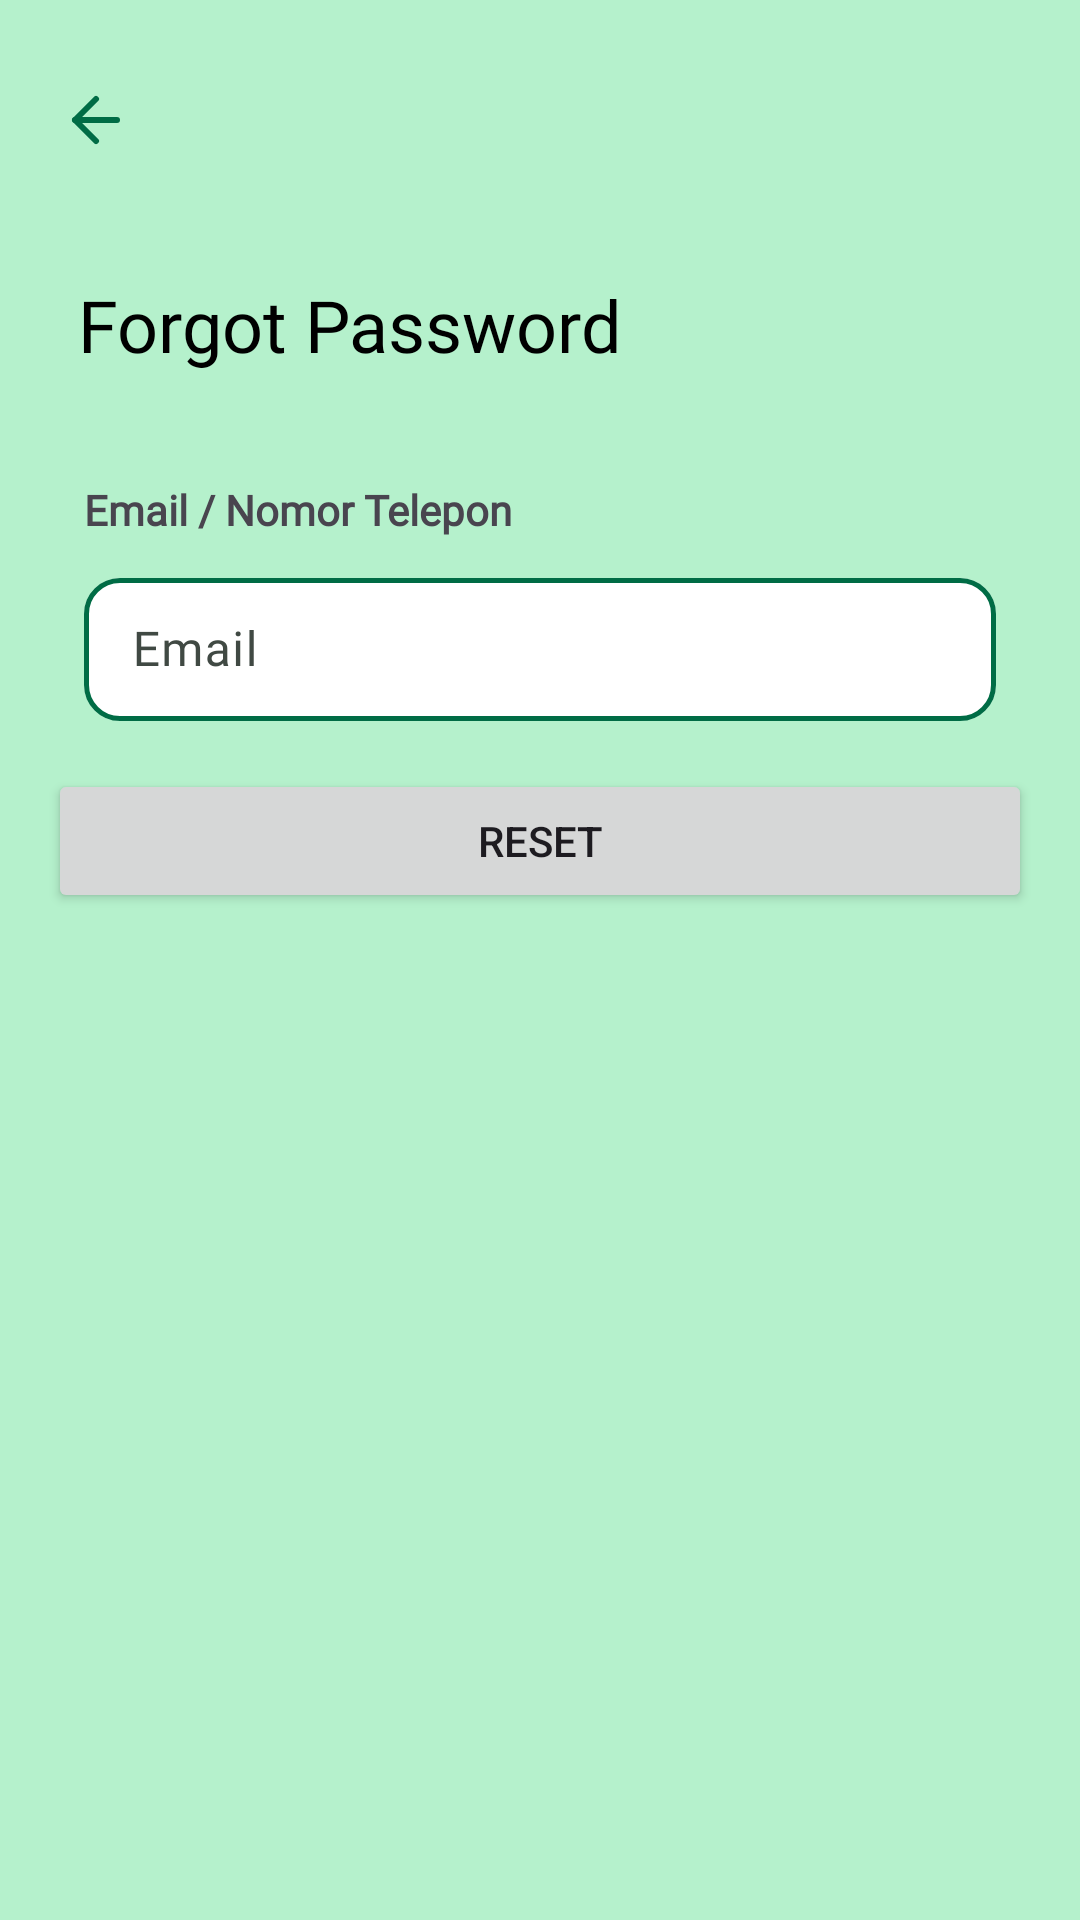

Locate icon controls on the screen. Image size 1080px x 1920px, boxes as (x1, y1, x2, y2).
back: (72, 96, 120, 144)
